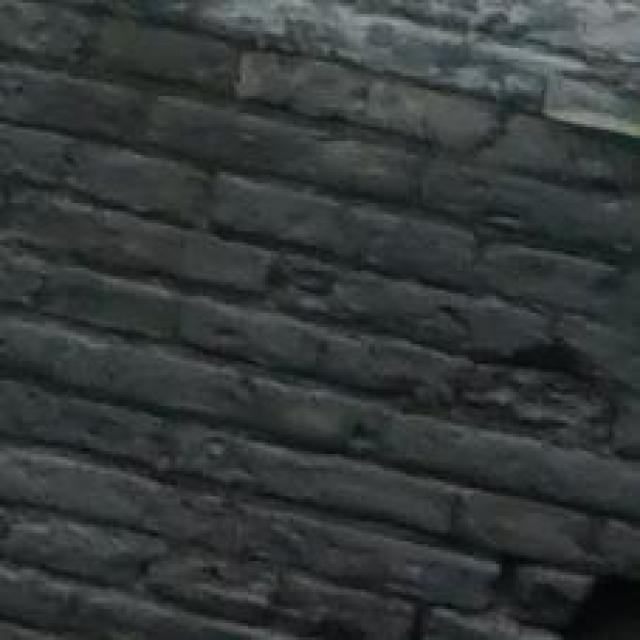Crack: (415, 315, 640, 640)
